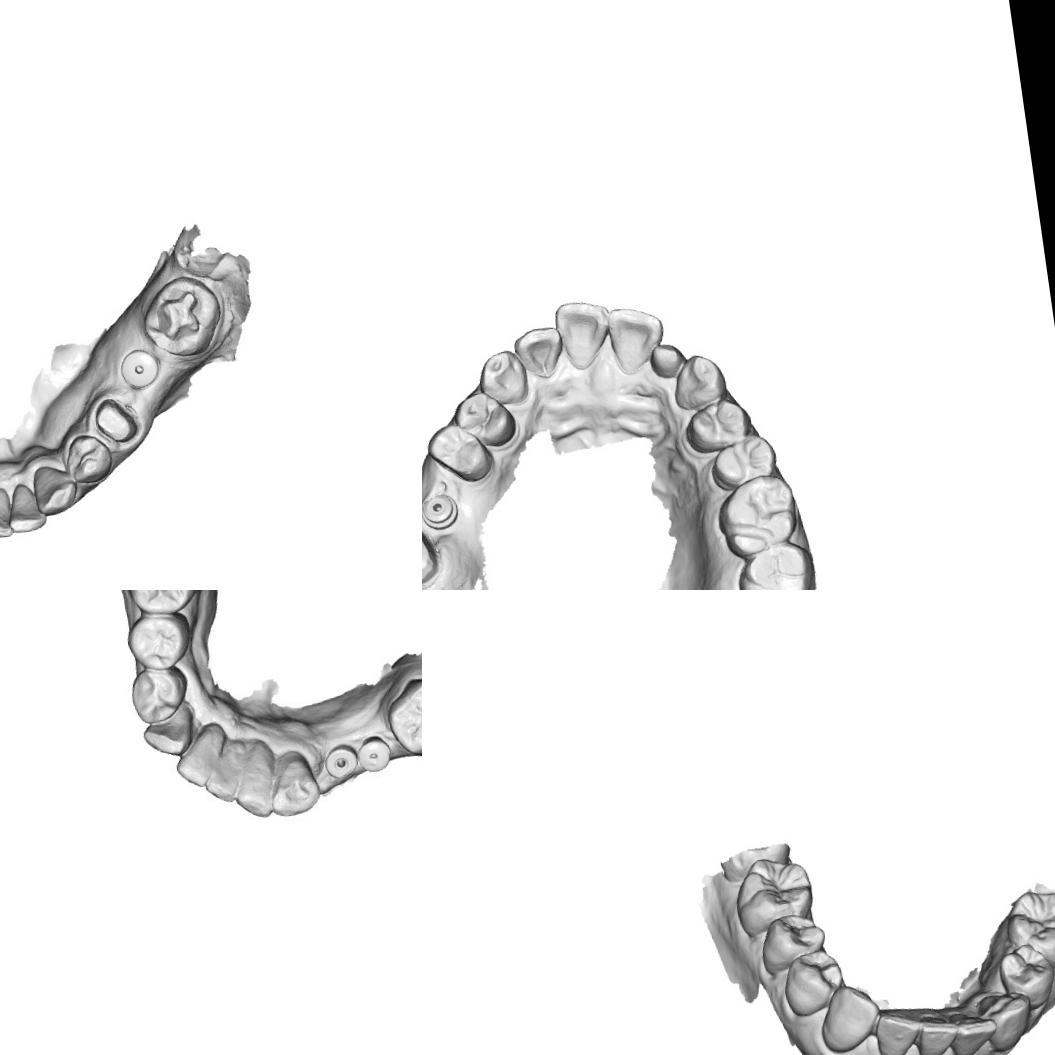canine: (813, 979, 882, 1055), (668, 350, 730, 412), (979, 986, 1034, 1054), (474, 346, 532, 410), (266, 755, 320, 822), (137, 709, 200, 761), (28, 460, 81, 519)
crown: (90, 393, 142, 449), (422, 516, 446, 590)
implant: (115, 344, 162, 392), (323, 740, 364, 783), (422, 489, 462, 532), (356, 734, 395, 776)
incisor: (604, 302, 670, 377), (552, 296, 615, 374), (167, 728, 226, 794), (230, 750, 283, 822), (198, 736, 249, 808), (512, 324, 568, 383), (946, 1004, 1000, 1055), (3, 478, 49, 536), (868, 1008, 922, 1055), (911, 1010, 955, 1055), (648, 340, 688, 382), (0, 484, 16, 542)
inlay: (144, 286, 206, 348)
molar: (710, 470, 803, 562), (728, 855, 815, 932), (1000, 882, 1055, 978), (731, 537, 819, 590), (381, 670, 422, 761), (117, 590, 208, 620)
premolar: (422, 417, 498, 490), (774, 944, 846, 1019), (448, 386, 520, 454), (706, 430, 782, 494), (124, 662, 194, 728), (682, 396, 756, 457), (124, 609, 193, 674), (994, 939, 1055, 1010), (756, 912, 824, 969), (61, 430, 116, 487)
